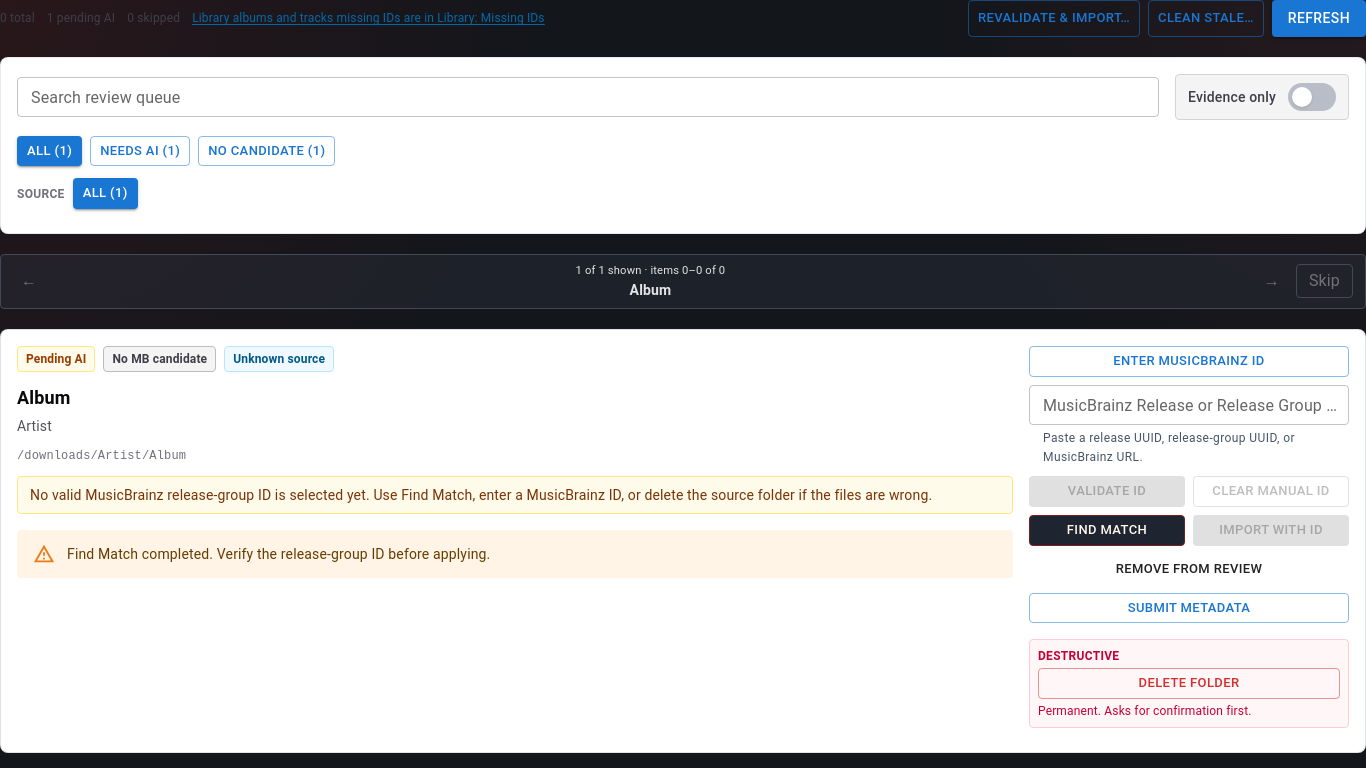
Import Review: Delete Folder success message › reports an all-quarantined delete from the real {source, quarantined} entries
The image size is (1366, 768).
Click the button "Delete Folder" at (1189, 684), box top-left (1038, 668), bottom-right (1340, 699)
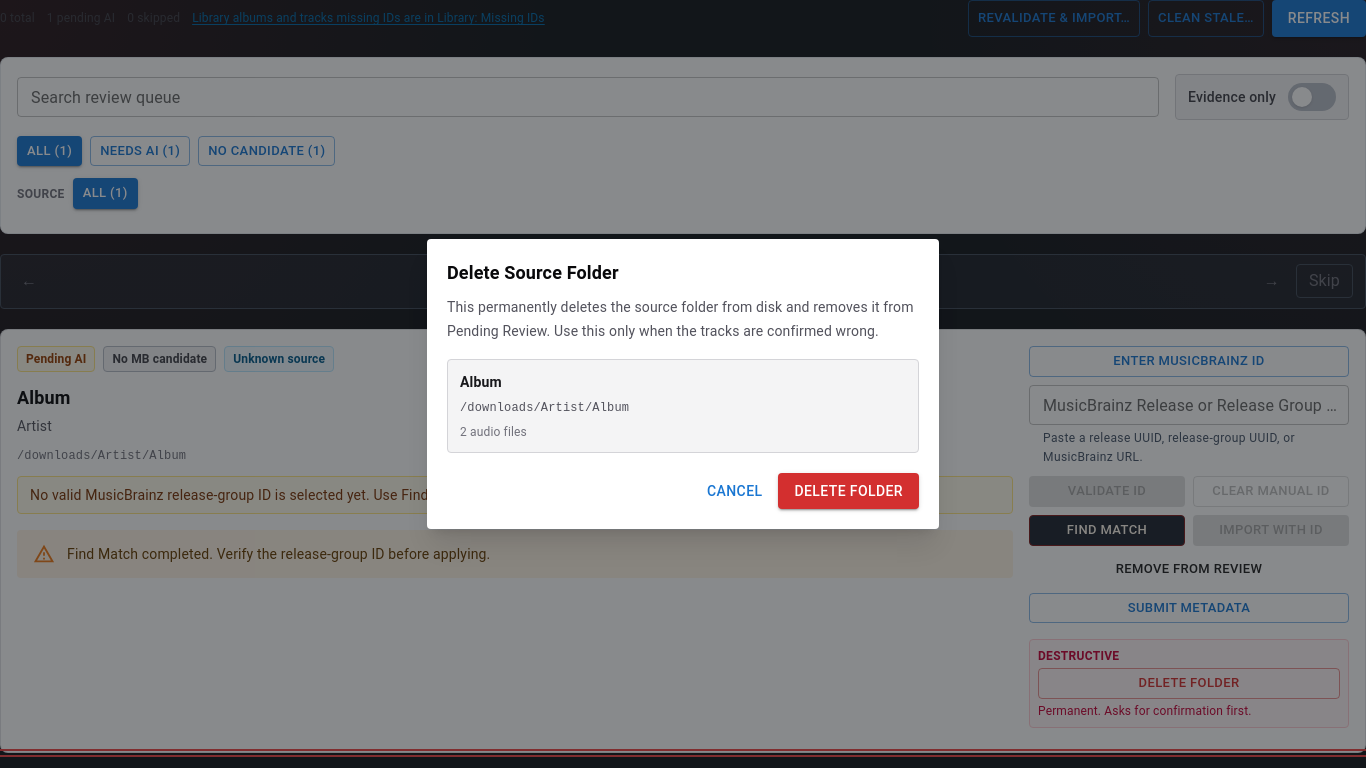
Click the button "Delete Folder" at (849, 491), box top-left (778, 473), bottom-right (919, 509)
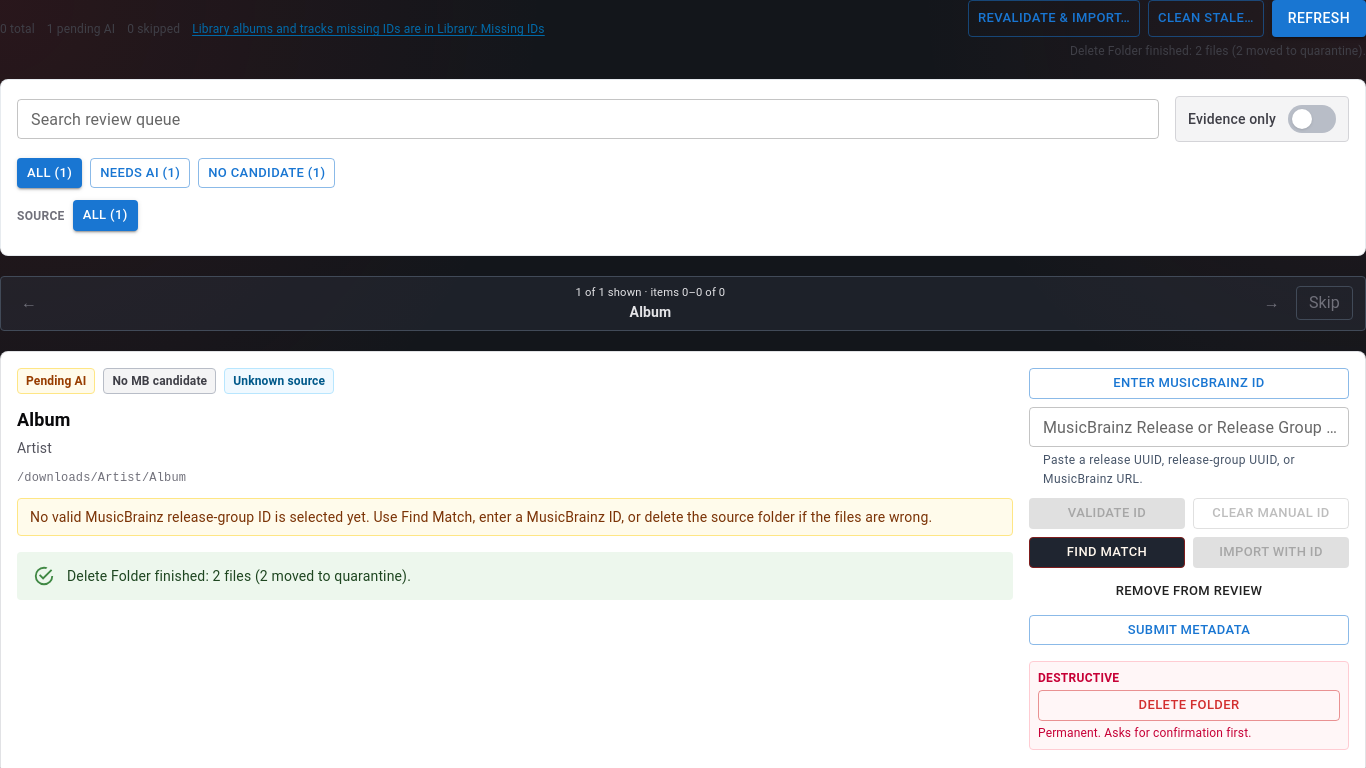
Now the 1st message "Delete Folder finished: 2 files (2 moved to quarantine)." is shown, box top-left (1070, 42), bottom-right (1365, 58)
